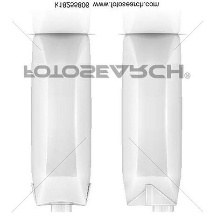carton: (116, 29, 189, 219), (25, 29, 94, 217)
